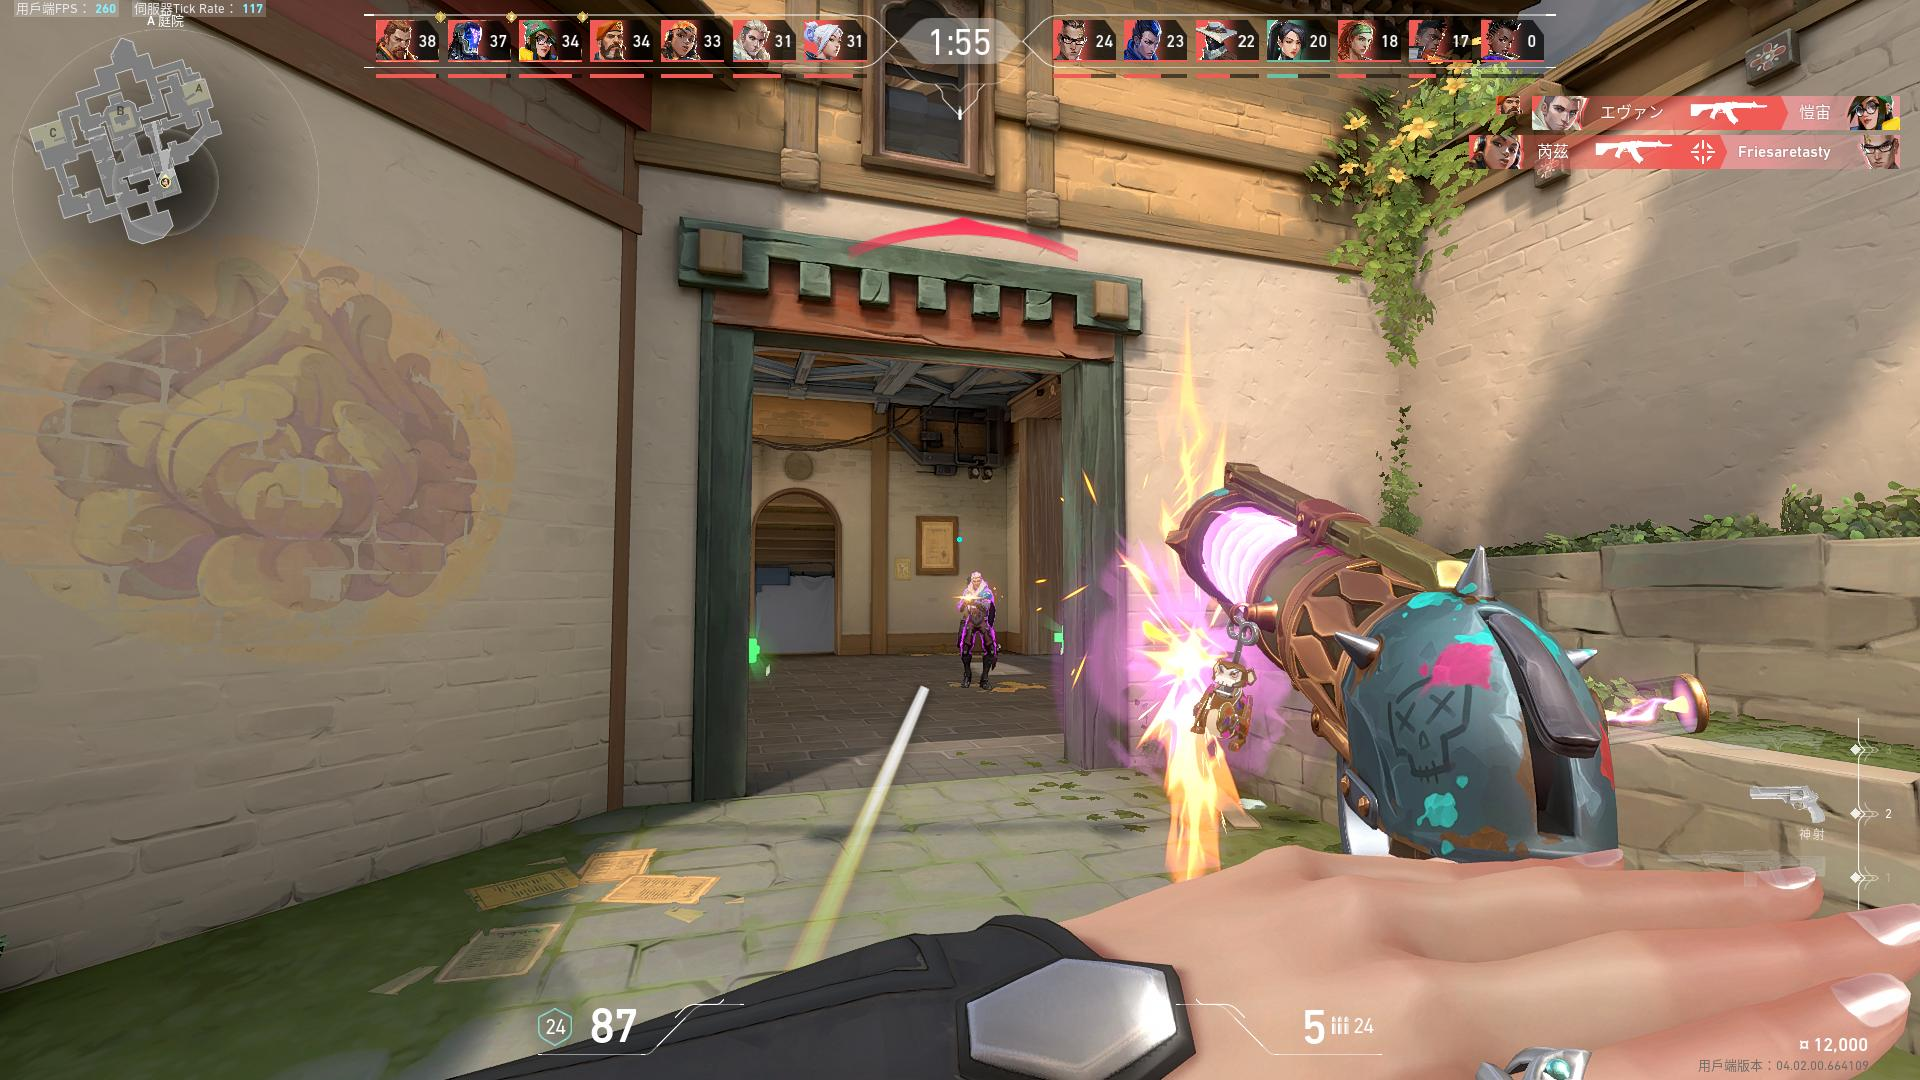enemyBody: (968, 593, 985, 622)
enemyHead: (973, 578, 980, 589)
